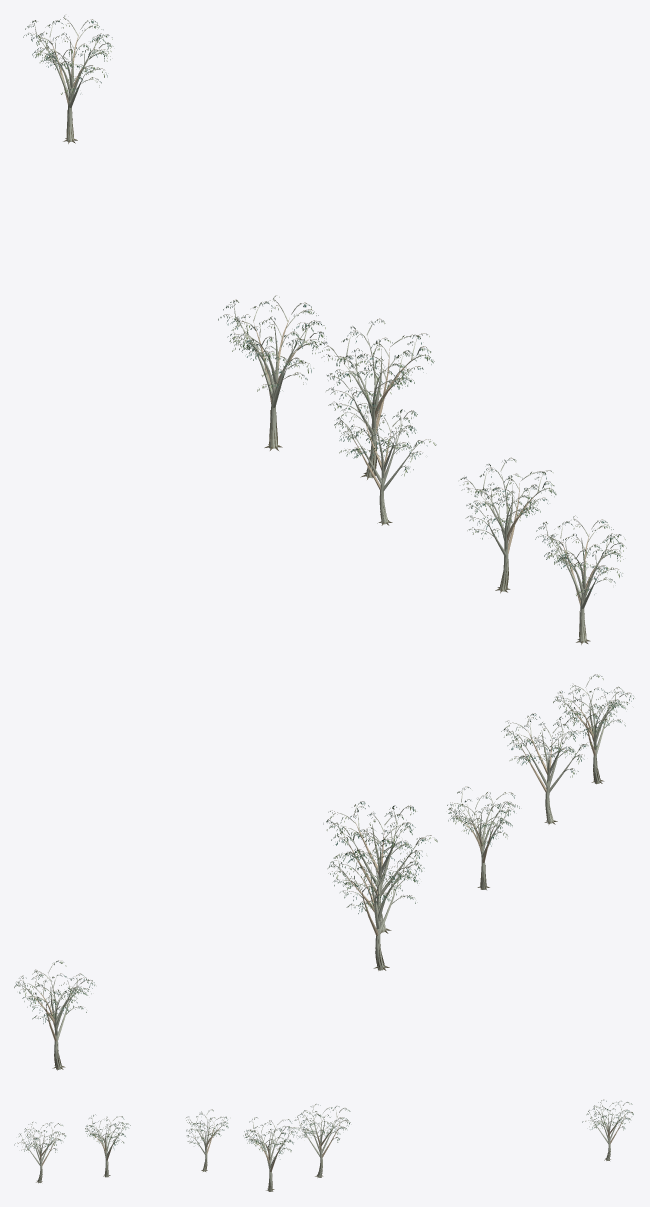
File: ecology-eucalyptus-mid-2.glb
3 views of the same model, one above another, from view 1: azimuth 30°, elevation 25°; view 2: azimuth 150°, elevation 25°; view 3: azimuth 270°, elevation 25° (orthographic). The views are drawn at different scales.
Visible parts, largest first — view 1: eucalyptus-mid-13, eucalyptus-mid-12, eucalyptus-mid-15, eucalyptus-mid-14, eucalyptus-mid-16, eucalyptus-mid-17; view 2: eucalyptus-mid-13, eucalyptus-mid-12, eucalyptus-mid-15, eucalyptus-mid-17, eucalyptus-mid-16, eucalyptus-mid-14; view 3: eucalyptus-mid-12, eucalyptus-mid-13, eucalyptus-mid-17, eucalyptus-mid-16, eucalyptus-mid-15, eucalyptus-mid-14.
Part boxes in pixels (x1,y1,x2,y2): eucalyptus-mid-13: (317,318,434,479); eucalyptus-mid-12: (218,295,326,450); eucalyptus-mid-15: (460,457,556,593); eucalyptus-mid-14: (334,403,436,525); eucalyptus-mid-16: (535,515,626,644); eucalyptus-mid-17: (23,15,113,143); eucalyptus-mid-13: (323,801,437,933); eucalyptus-mid-12: (327,838,424,970); eucalyptus-mid-15: (501,713,597,824); eucalyptus-mid-17: (14,960,94,1070); eucalyptus-mid-16: (553,674,633,784); eucalyptus-mid-14: (447,786,519,889); eucalyptus-mid-12: (288,1104,350,1177); eucalyptus-mid-13: (243,1117,298,1191); eucalyptus-mid-17: (582,1099,633,1160); eucalyptus-mid-16: (14,1122,65,1183); eucalyptus-mid-15: (85,1114,130,1177); eucalyptus-mid-14: (186,1109,228,1171).
Bounding box in the file's own units: 18.41 × 19.52 × 114.
